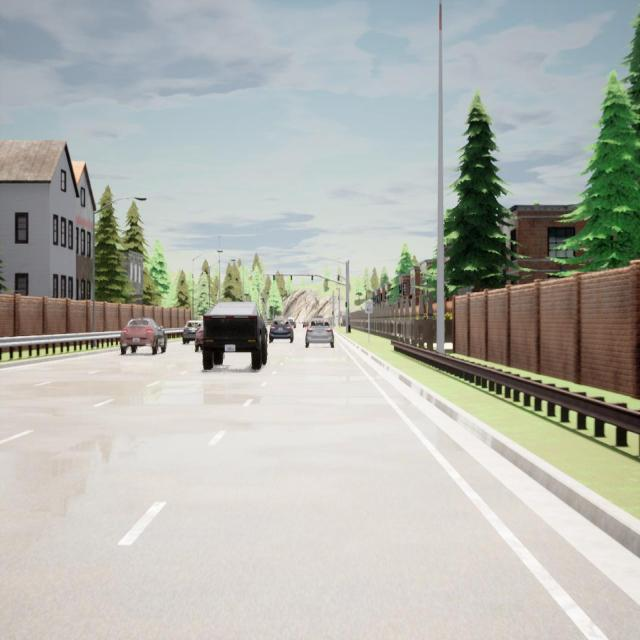Traffic_Signs: (365, 301, 373, 313)
Vehicle: (202, 302, 267, 370), (120, 318, 167, 356), (305, 317, 334, 348), (268, 318, 294, 344), (183, 321, 201, 345), (195, 325, 204, 352), (288, 317, 296, 328), (302, 320, 310, 328)
traffic_light: (273, 275, 275, 283), (346, 302, 348, 310), (312, 275, 314, 283), (338, 275, 340, 281), (291, 275, 292, 283)
